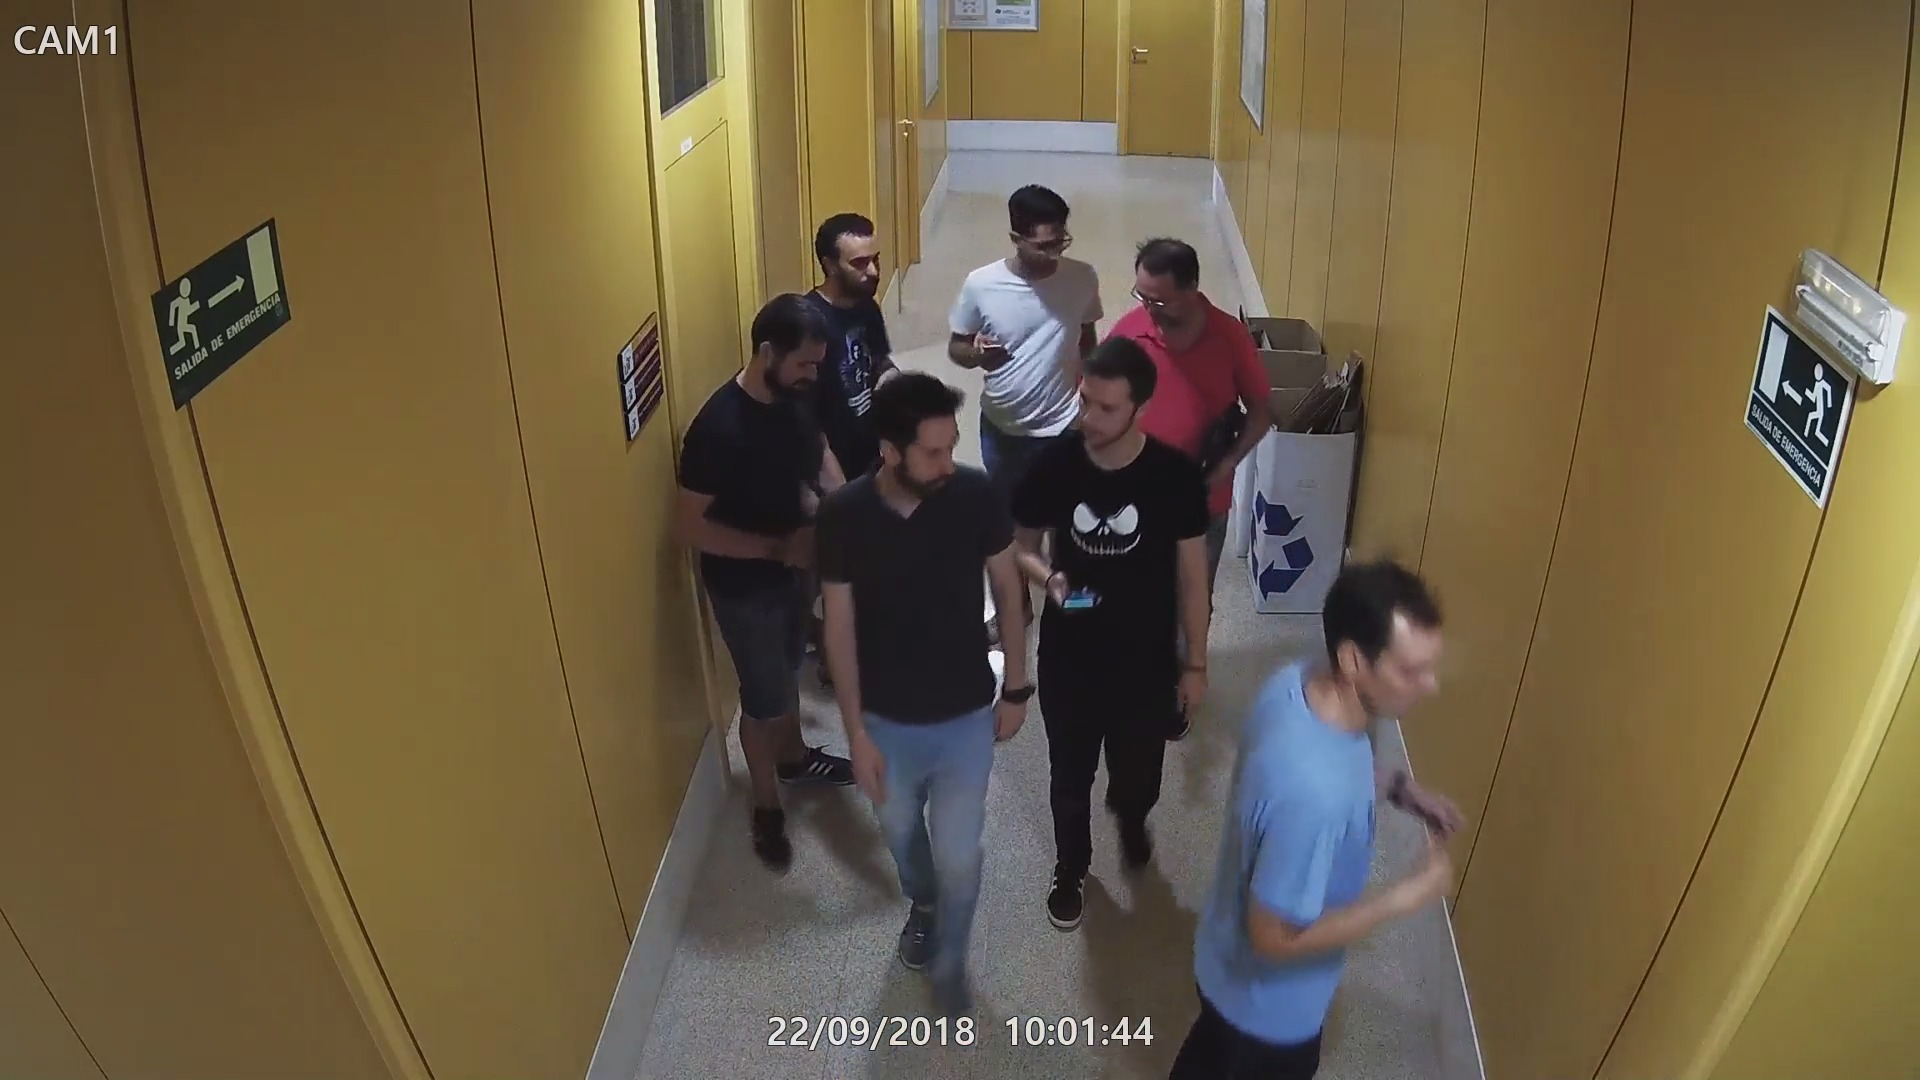Short_rifle: (1197, 401, 1251, 481)
